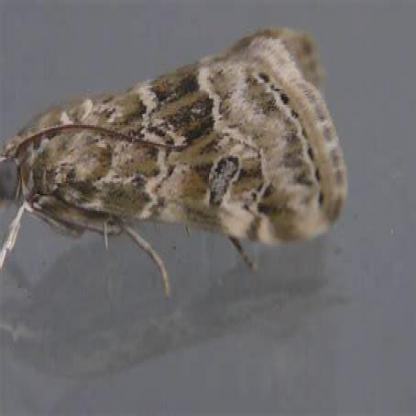Hellula undalis: (0, 27, 347, 307)
